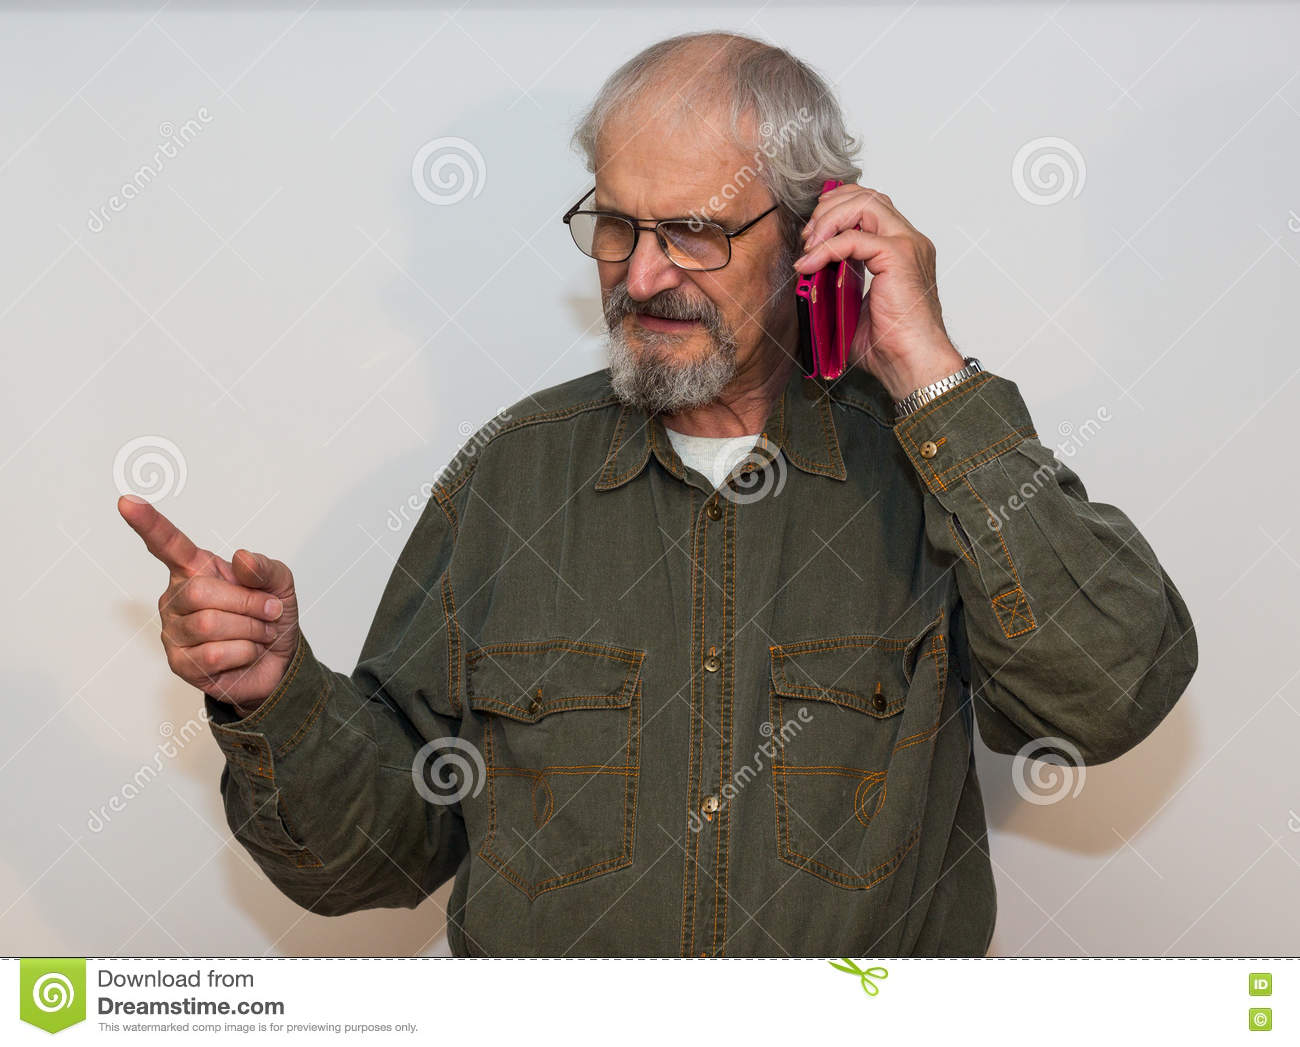talk: (589, 172, 951, 418), (796, 174, 839, 385)
